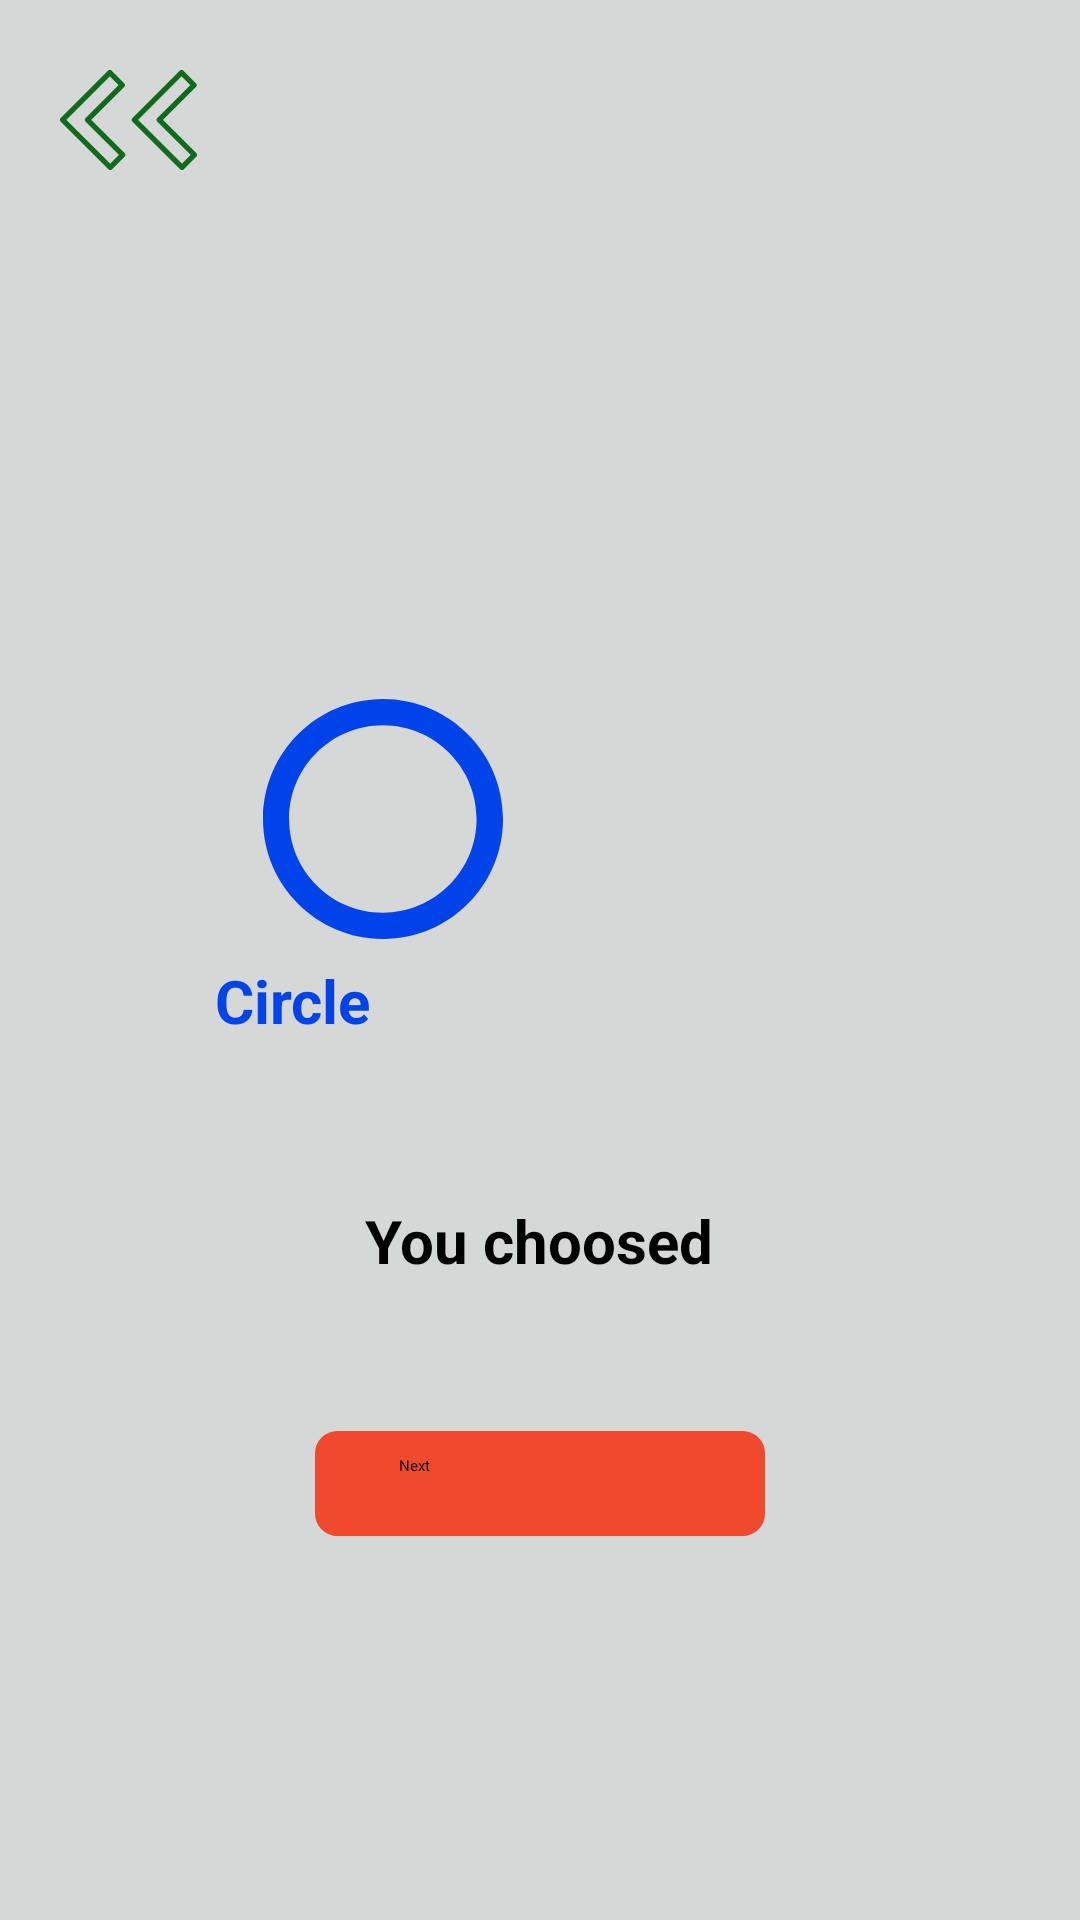

Icon click points for this 1080x1920 phone screenshot, format [x,y]:
back: [128,120]
